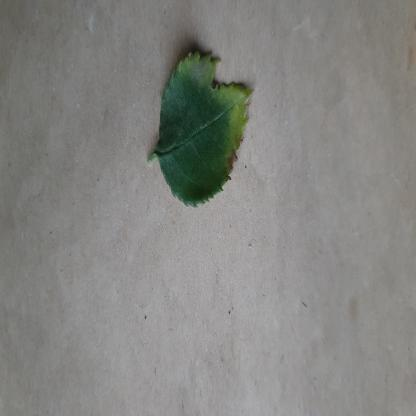downy-mildew: (155, 43, 254, 206)
